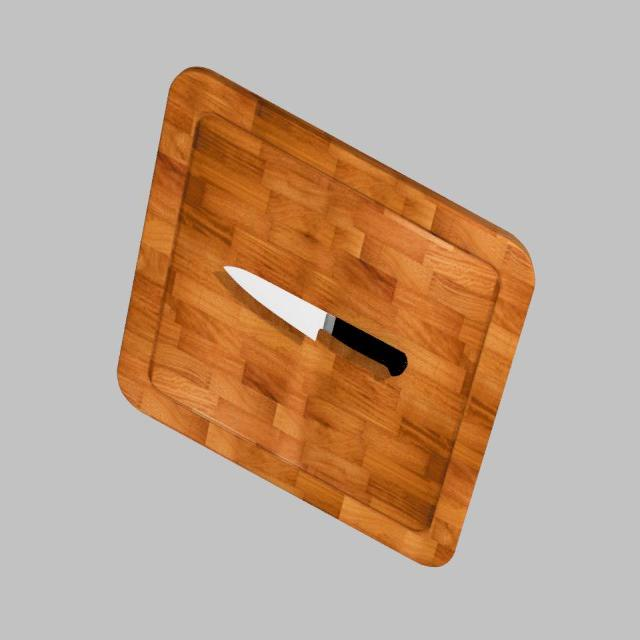knife: (331, 316, 408, 376)
